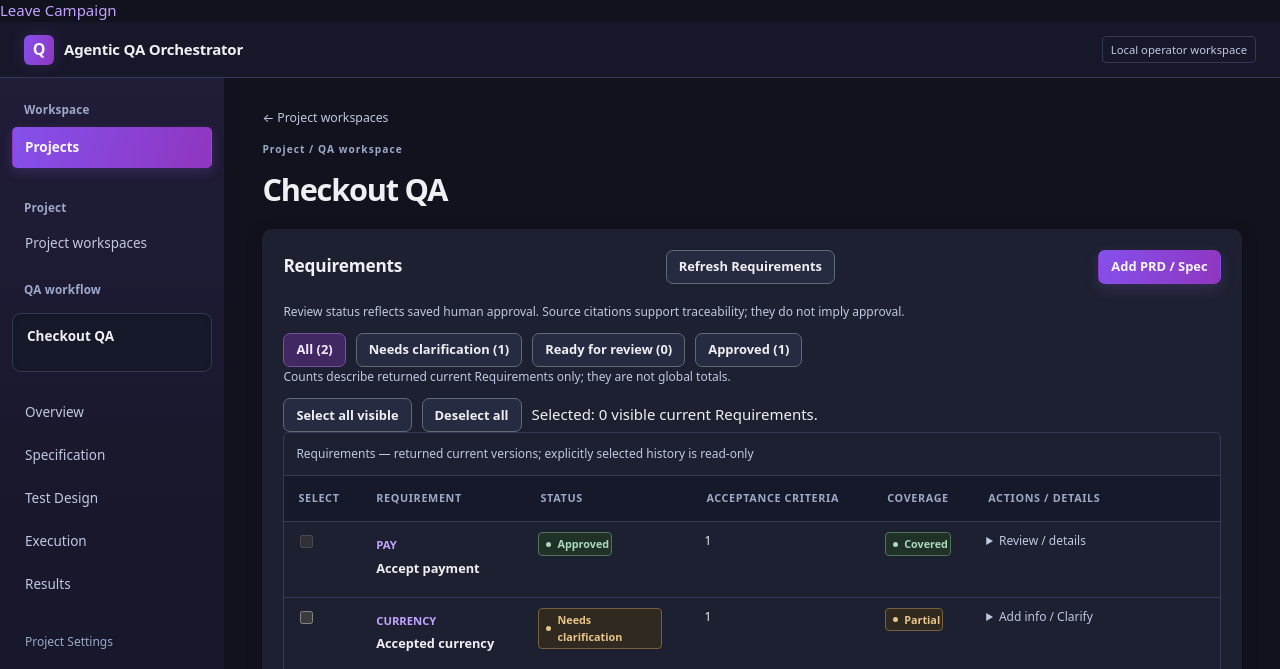
it: workspace navigation and hierarchy › keeps current Requirements before source intake and recovery reachable
Step 1. Click the heading "Add info / Clarify" → click(1040, 617), box [986,608,1093,626]
(page scrolled)
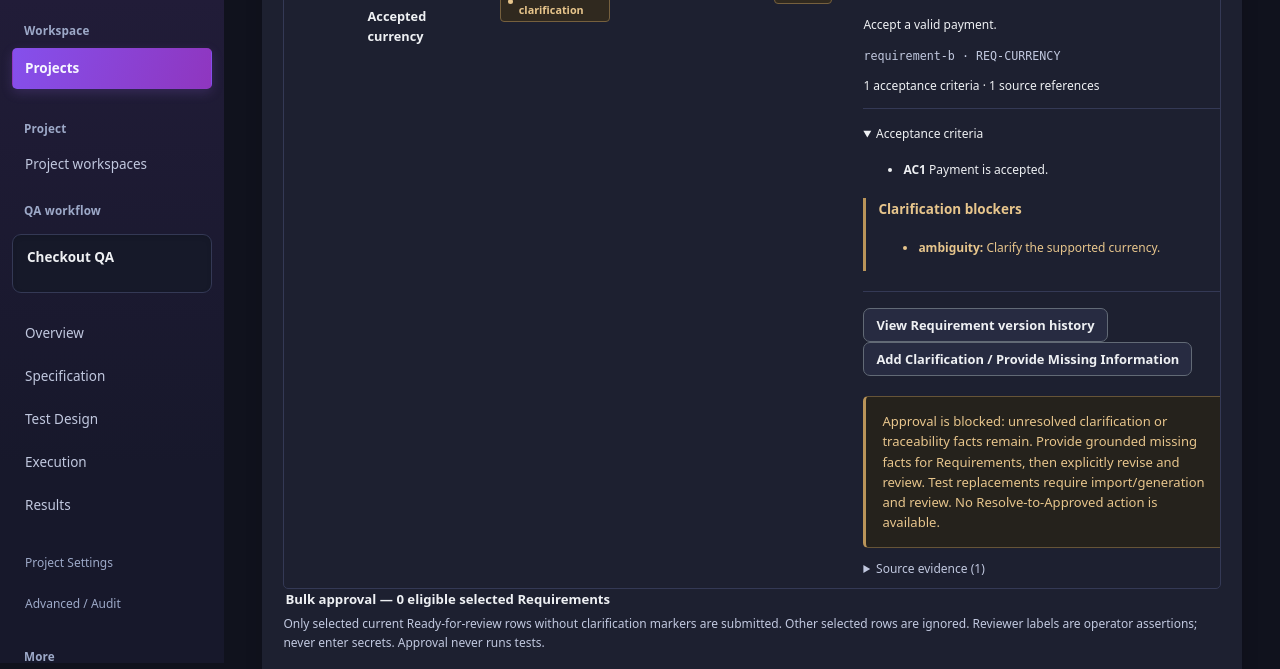
Step 2. Click the button "Add Clarification / Provide Missing Information" → click(1028, 359), box [863,342,1192,376]
(page scrolled)
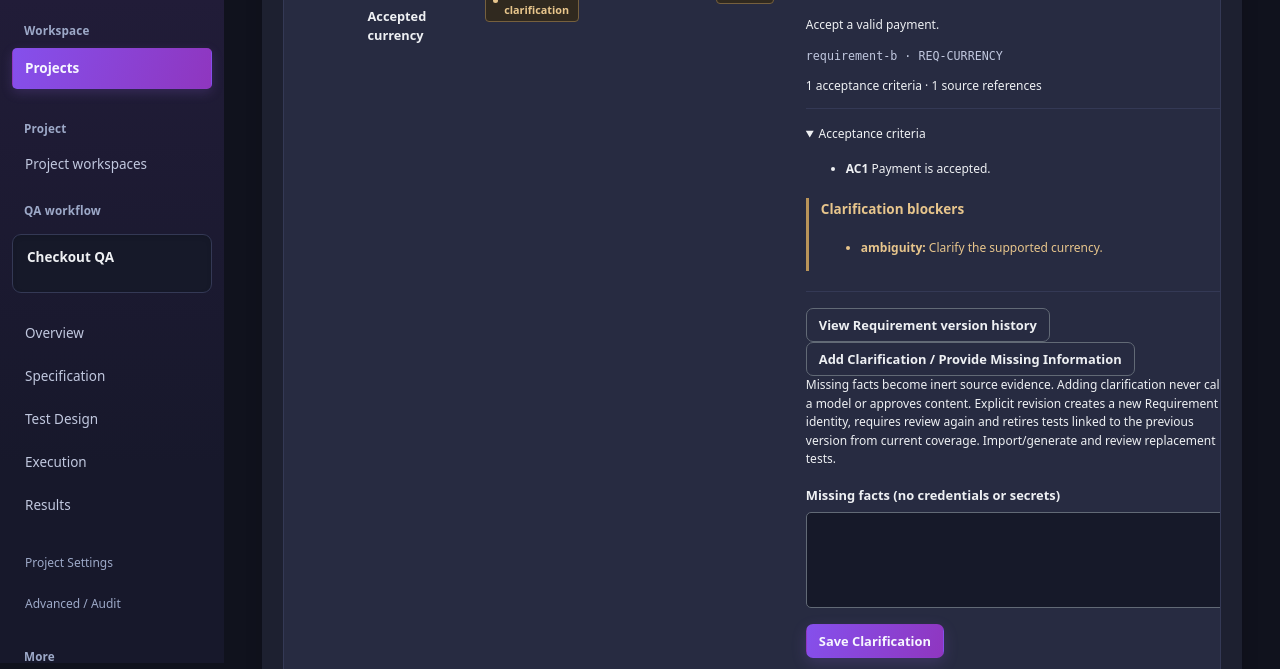
Now the text box labelled "Missing facts (no credentials or secrets)" is shown, box [806,512,1221,608]
Now the button "Save Clarification" is shown, box [806,624,944,658]
